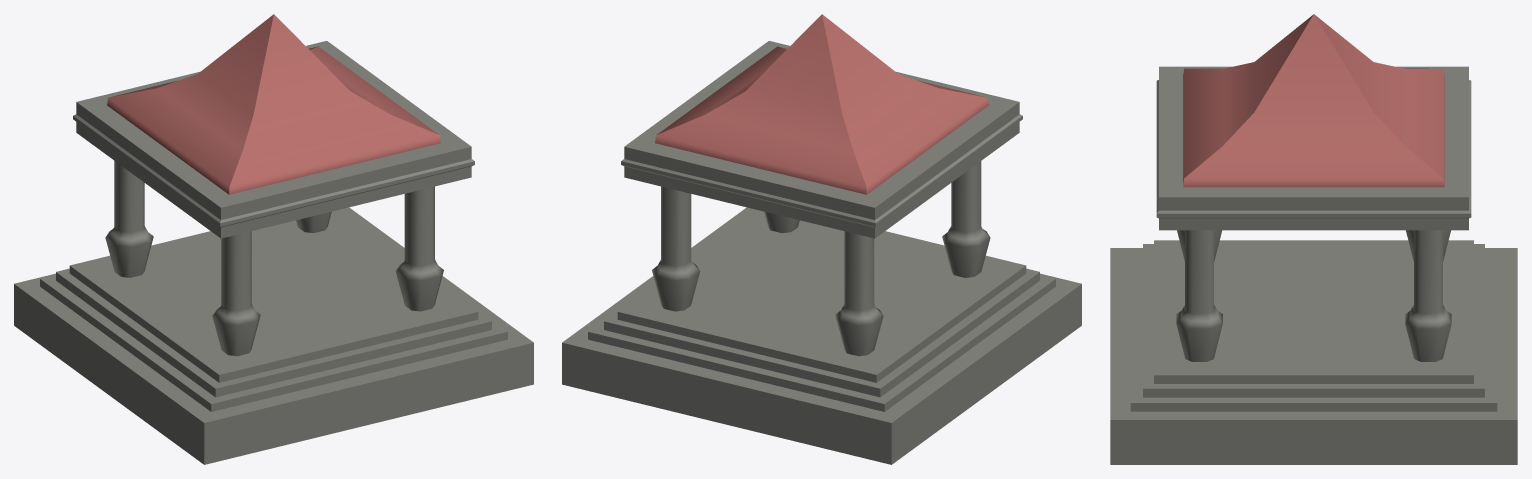
File: YardGazebo.fbx
3 renders of one model, left to right at view 1: azimuth 30°, elevation 25°; view 2: azimuth 150°, elevation 25°; view 3: azimuth 270°, elevation 25°, orthographic. The views are drawn at different scales.
Visible parts, largest first — view 1: pCube322; view 2: pCube322; view 3: pCube322.
Part boxes in pixels (bbox=[...]): pCube322: bbox=[14, 14, 533, 464]; pCube322: bbox=[562, 14, 1081, 464]; pCube322: bbox=[1110, 14, 1517, 464].
Size of the model in its own units: 2.88 by 2.85 by 2.88.
